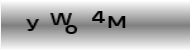4: (90, 9, 105, 24)
M: (107, 15, 127, 29)
W: (49, 12, 73, 25)
o: (63, 24, 78, 35)
y: (24, 17, 39, 31)
